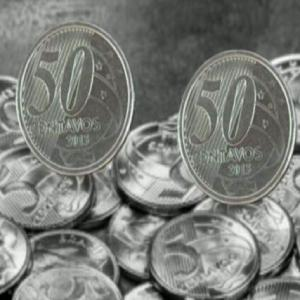50 cent: (14, 20, 135, 175), (176, 48, 296, 204)
